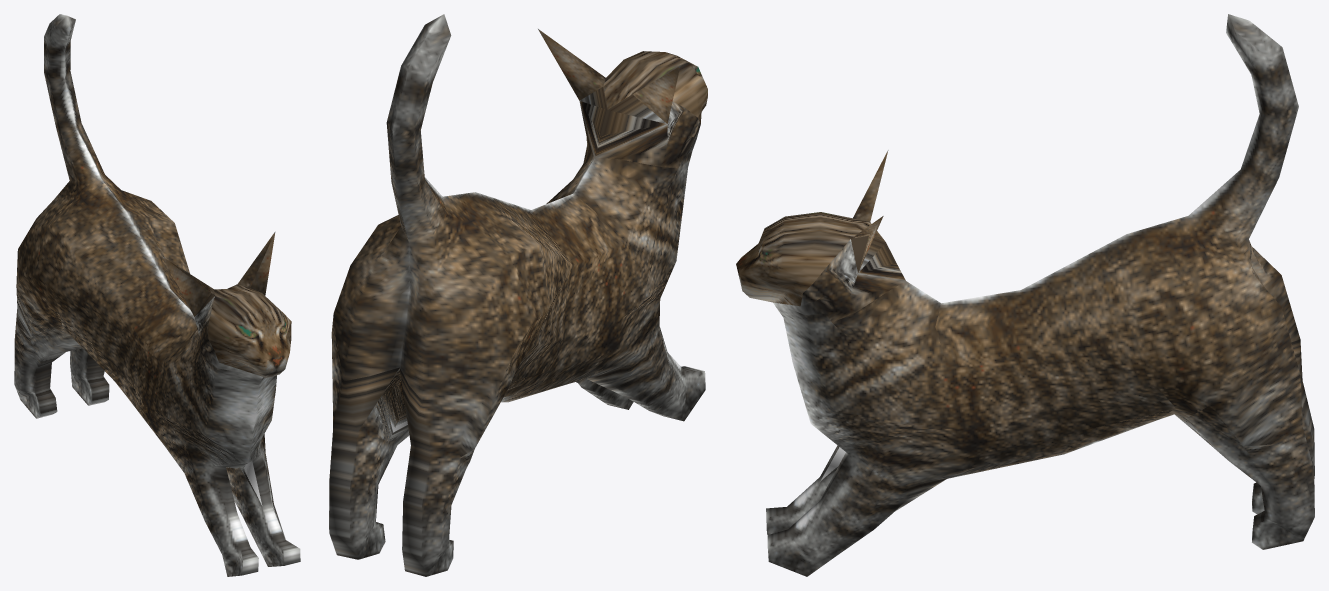
File: kissa.fbx
3 renders of one model, left to right at view 1: azimuth 30°, elevation 25°; view 2: azimuth 150°, elevation 25°; view 3: azimuth 270°, elevation 25°, orthographic. The views are drawn at different scales.
Parts seen in each view (by area): view 1: Katze; view 2: Katze; view 3: Katze.
Boxes of the visible parts, x1=… form: Katze: x1=14, y1=14, x2=300, y2=576; Katze: x1=329, y1=14, x2=707, y2=576; Katze: x1=736, y1=14, x2=1314, y2=576.
Size of the model in its own units: 204 by 619 by 606.
